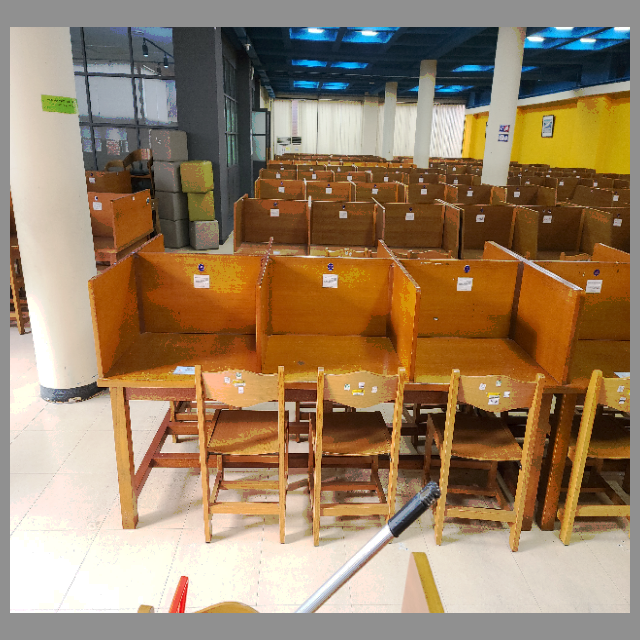empty: (91, 257, 259, 458), (413, 256, 559, 473), (261, 257, 411, 452)
